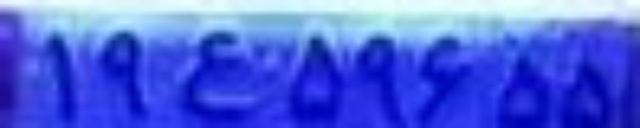1: (44, 33, 84, 126)
5: (287, 37, 348, 119), (489, 53, 553, 125), (561, 59, 613, 126)
6: (416, 36, 473, 124)
9: (97, 31, 152, 123), (352, 37, 405, 124)
ain: (177, 31, 269, 120)
